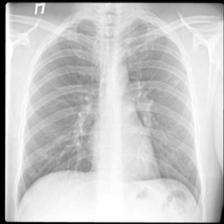tuberculosis: (13, 11, 207, 224)
